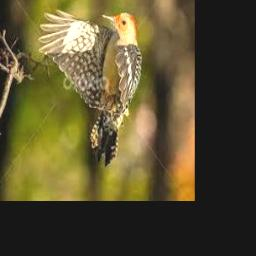Woodpecker: (39, 9, 143, 166)
